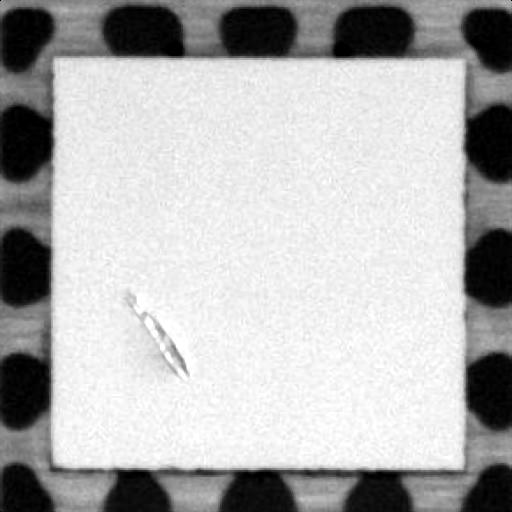DIE_INK: (120, 286, 184, 380)
